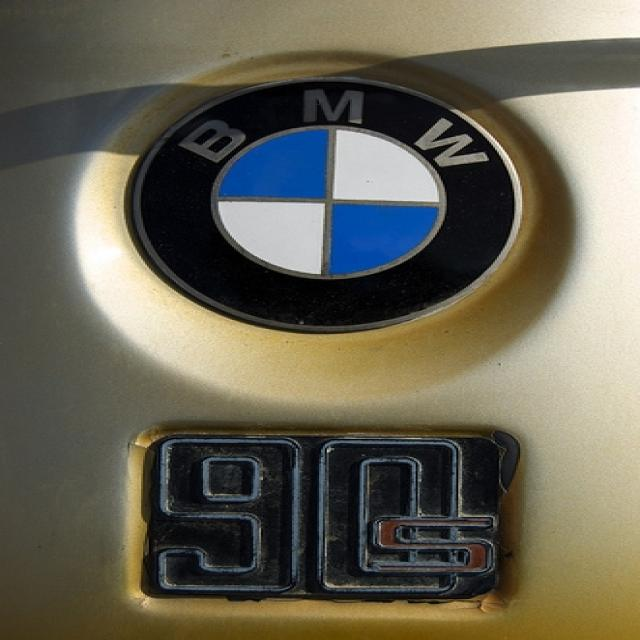bmw: (113, 71, 533, 343)
